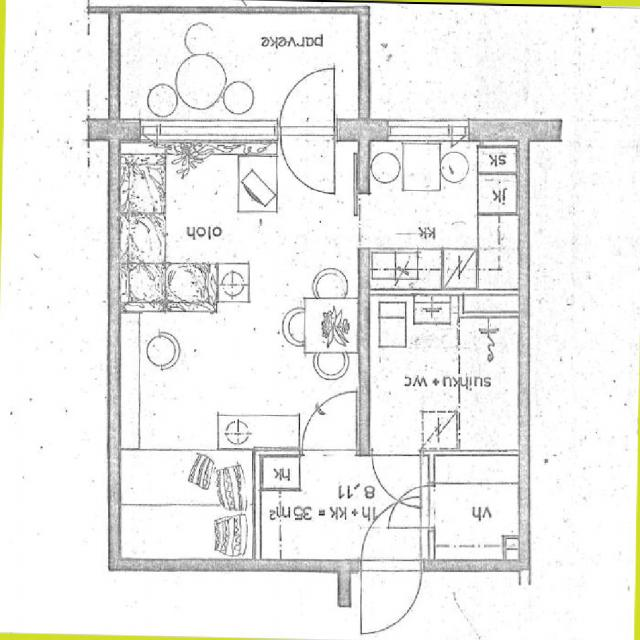door: (361, 560, 421, 636), (361, 496, 421, 572), (280, 62, 333, 140), (280, 120, 333, 198), (302, 392, 356, 456), (372, 450, 421, 508), (389, 487, 434, 529)
